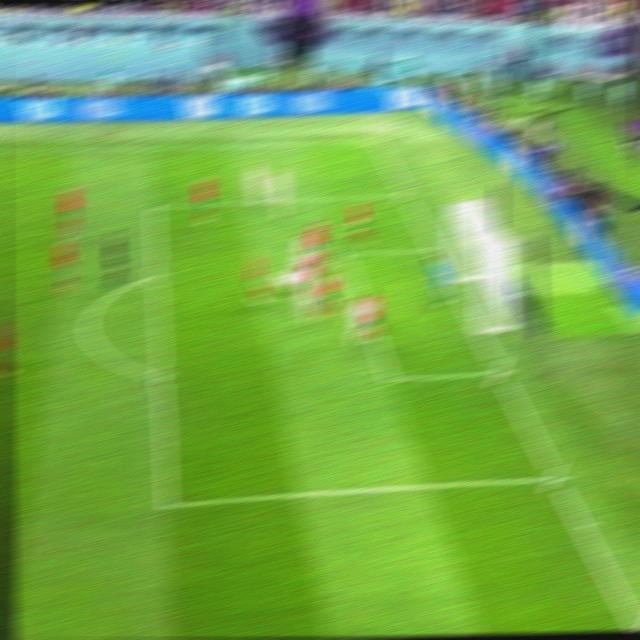bigarea_bottom_inner: (151, 490, 179, 515)
bigarea_bottom_outter: (540, 465, 567, 490)
bigarea_top_inner: (141, 196, 164, 214)
bigarea_top_outter: (392, 185, 415, 202)
bottom_arc_area_intersection: (148, 367, 171, 386)
corner: (360, 131, 385, 146)
smallarea_bottom_inner: (374, 363, 401, 388)
smallarea_bottom_outter: (484, 358, 512, 384)
smallarea_top_inner: (332, 243, 355, 262)
smallarea_top_outter: (421, 237, 444, 258)
top_arc_area_intersection: (143, 264, 166, 282)
